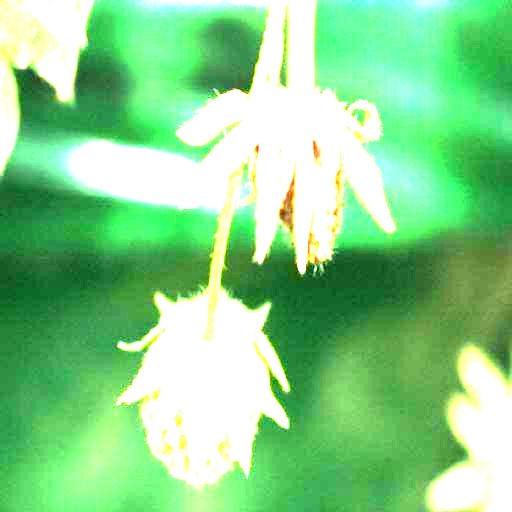Gray Mold: (177, 80, 395, 273)
